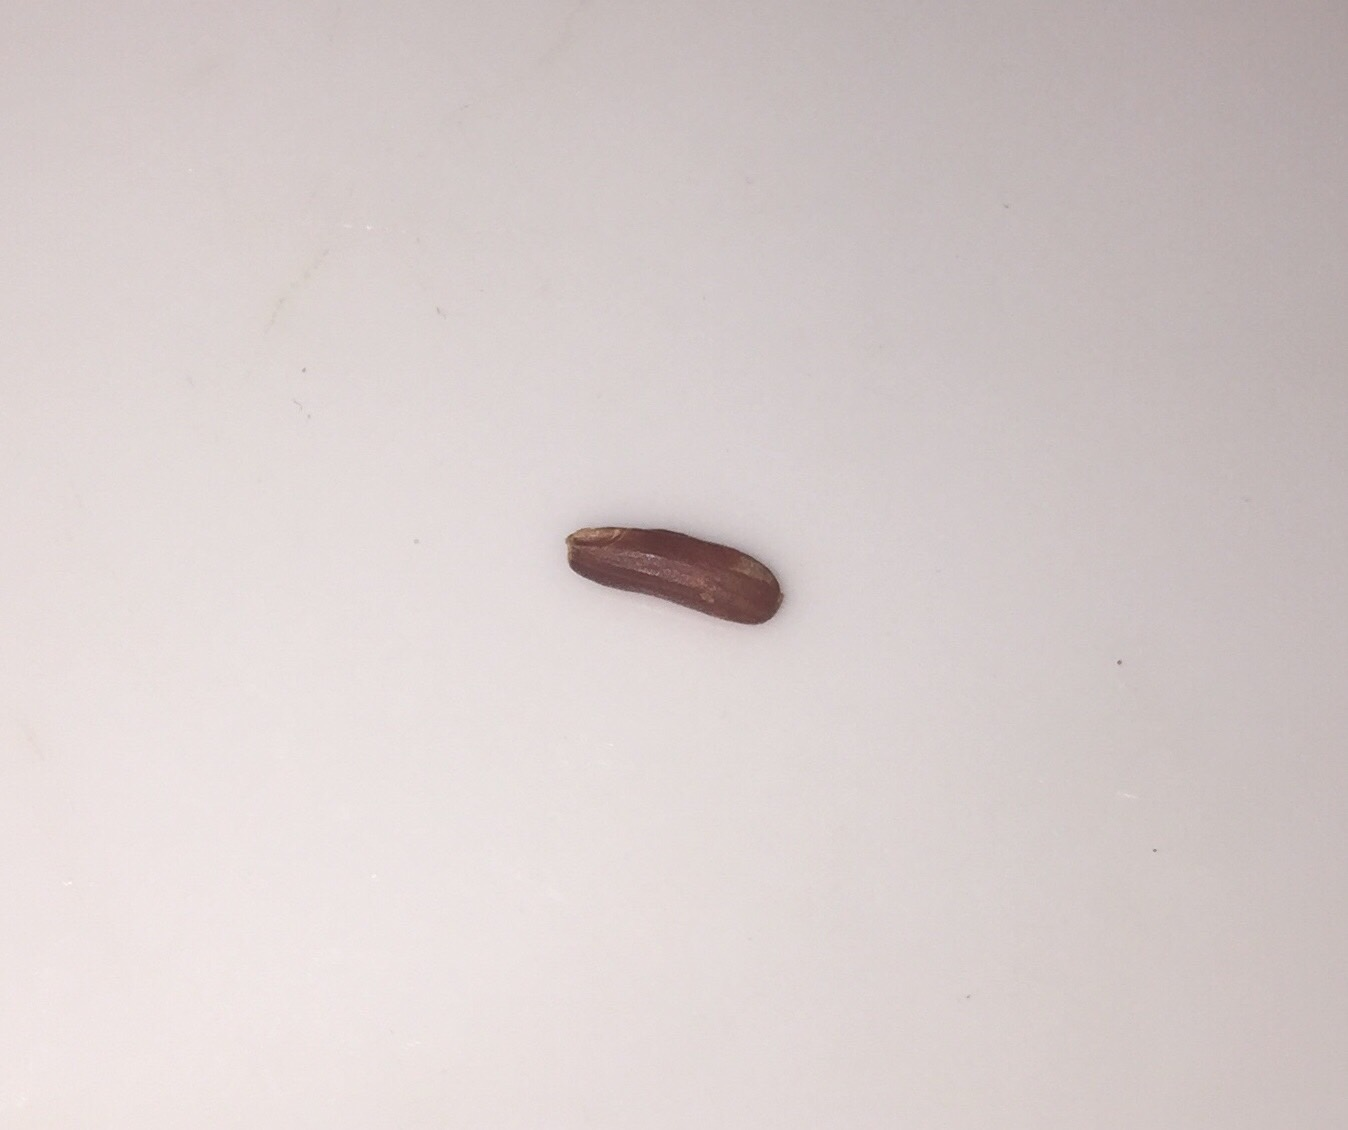Gao Huyet Rong: (555, 510, 798, 650)
